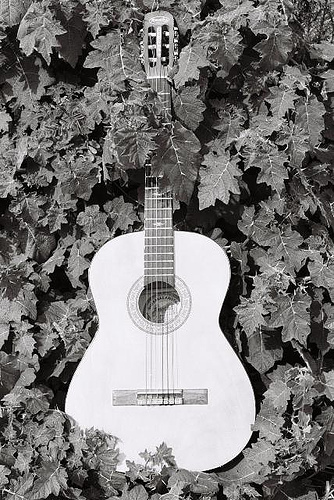guitar: (63, 8, 258, 474)
